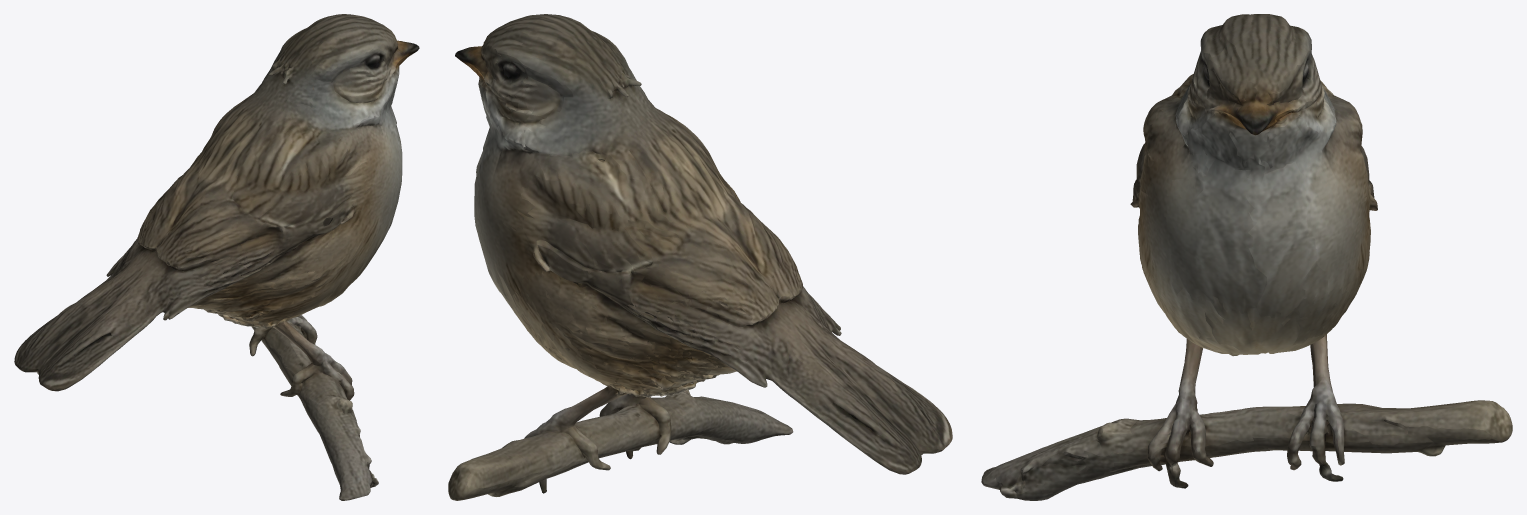
File: songbird-v18.glb
3 renders of one model, left to right at view 1: azimuth 30°, elevation 25°; view 2: azimuth 150°, elevation 25°; view 3: azimuth 270°, elevation 25°, orthographic. The views are drawn at different scales.
Visible parts, largest first — view 1: geometry_0; view 2: geometry_0; view 3: geometry_0.
Part boxes in pixels (left/top/right/bottom): geometry_0: left=14, top=14, right=419, bottom=500; geometry_0: left=448, top=14, right=952, bottom=500; geometry_0: left=981, top=14, right=1512, bottom=500.
Size of the model in its own units: 0.1399 by 0.1338 by 0.1236.
1 material, 1 textured.
